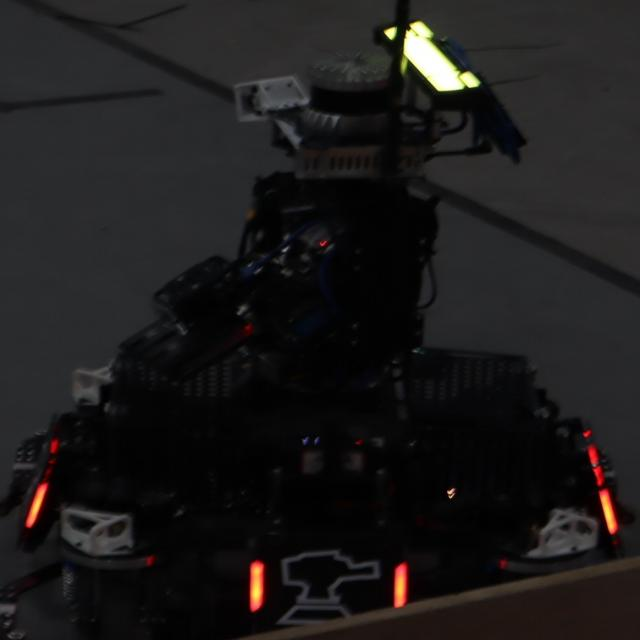Rs: (238, 536, 412, 632)
